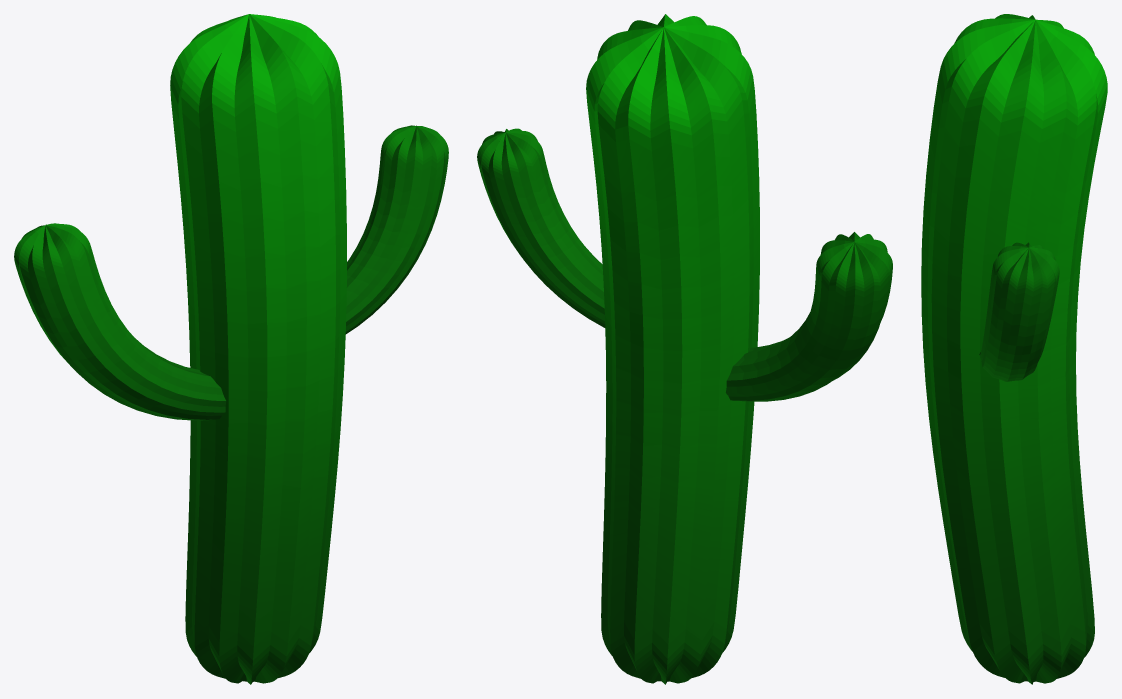
File: TA-tree-captus_var1.fbx
The picture shows the model from 3 angles, left to right: view 1: azimuth 30°, elevation 25°; view 2: azimuth 150°, elevation 25°; view 3: azimuth 270°, elevation 25°; orthographic projection.
Parts seen in each view (by area): view 1: captus1; view 2: captus1; view 3: captus1.
Boxes of the visible parts, left/top/right/bottom form: captus1: left=14, top=14, right=448, bottom=684; captus1: left=477, top=14, right=892, bottom=684; captus1: left=921, top=14, right=1107, bottom=684.
Bounding box in the file's own units: 1.66 × 2.5 × 0.6443.
